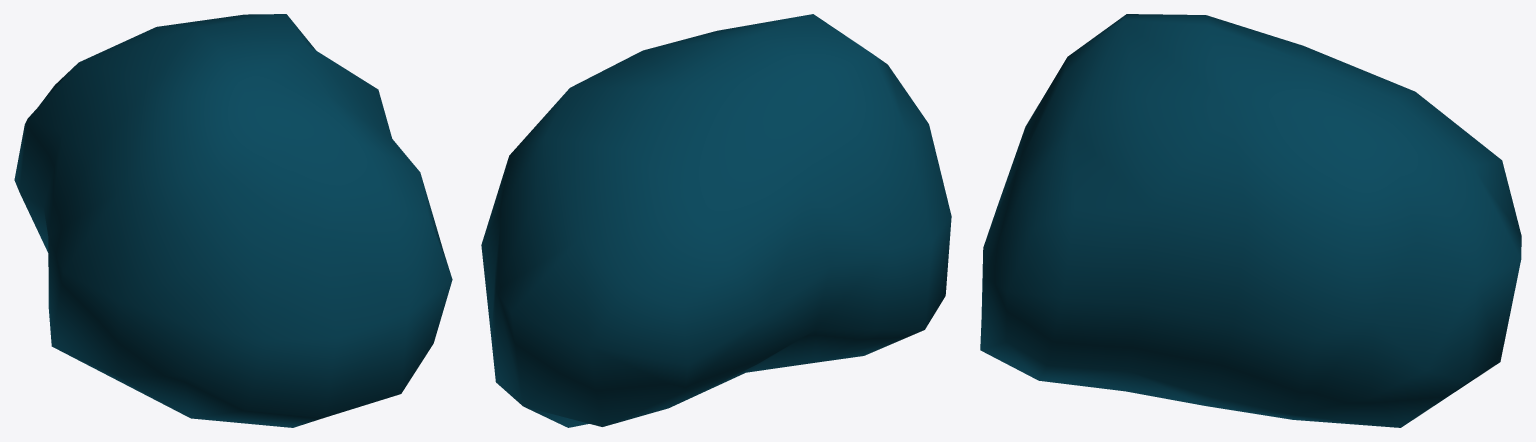
Rendered from iceAsteroid.fbx.
3 views of the same model, side by side, from view 1: azimuth 30°, elevation 25°; view 2: azimuth 150°, elevation 25°; view 3: azimuth 270°, elevation 25° (orthographic). The views are drawn at different scales.
Parts seen in each view (by area): view 1: Cube; view 2: Cube; view 3: Cube.
Part boxes in pixels (x1=…): Cube: x1=14, y1=14, x2=452, y2=427; Cube: x1=481, y1=14, x2=951, y2=427; Cube: x1=980, y1=14, x2=1521, y2=427.
Bounding box in the file's own units: 1.66 × 1.4 × 2.01.
